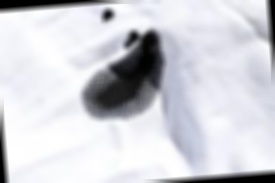ink: (78, 30, 169, 123), (100, 8, 116, 23)
